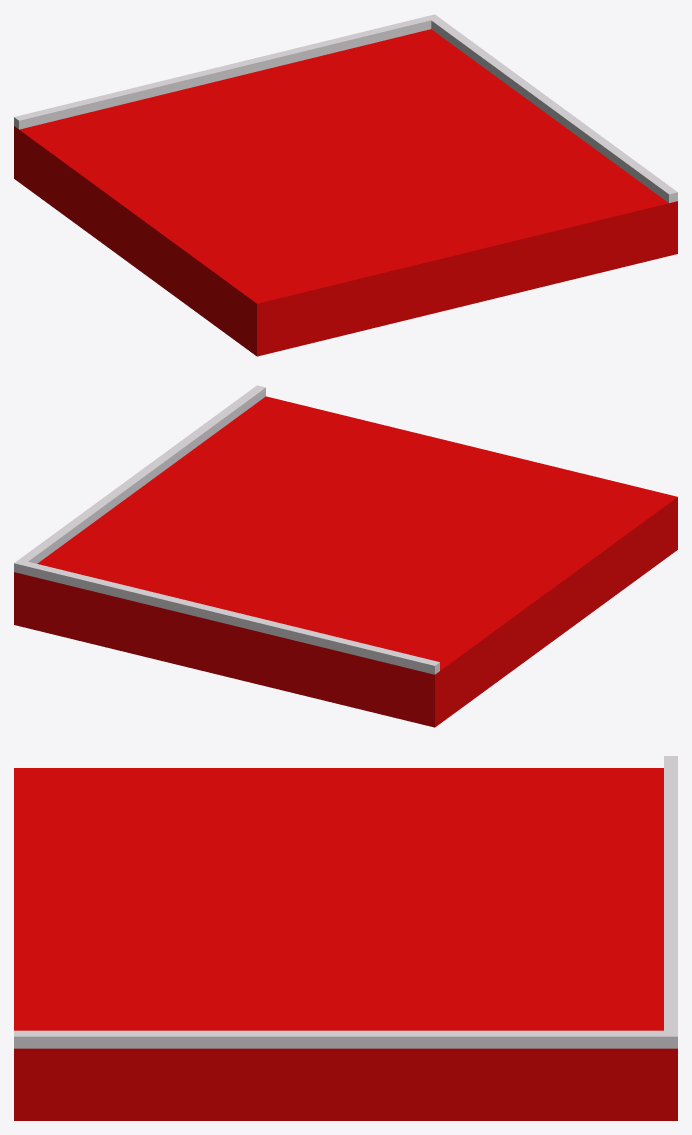
The model's file is corner_border.glb.
3 renders of one model, top to bottom at view 1: azimuth 30°, elevation 25°; view 2: azimuth 150°, elevation 25°; view 3: azimuth 270°, elevation 25°, orthographic. The views are drawn at different scales.
Visible parts, largest first — view 1: corner_border, center.005; view 2: corner_border, center.005; view 3: corner_border, center.005.
Part boxes in pixels (x1,y1,x2,y2): corner_border: (14,29,677,356); center.005: (14,14,677,202); corner_border: (14,396,677,727); center.005: (14,385,439,674); corner_border: (14,768,677,1120); center.005: (14,756,677,1048).
Bounding box in the file's own units: 1 × 0.14 × 1.
